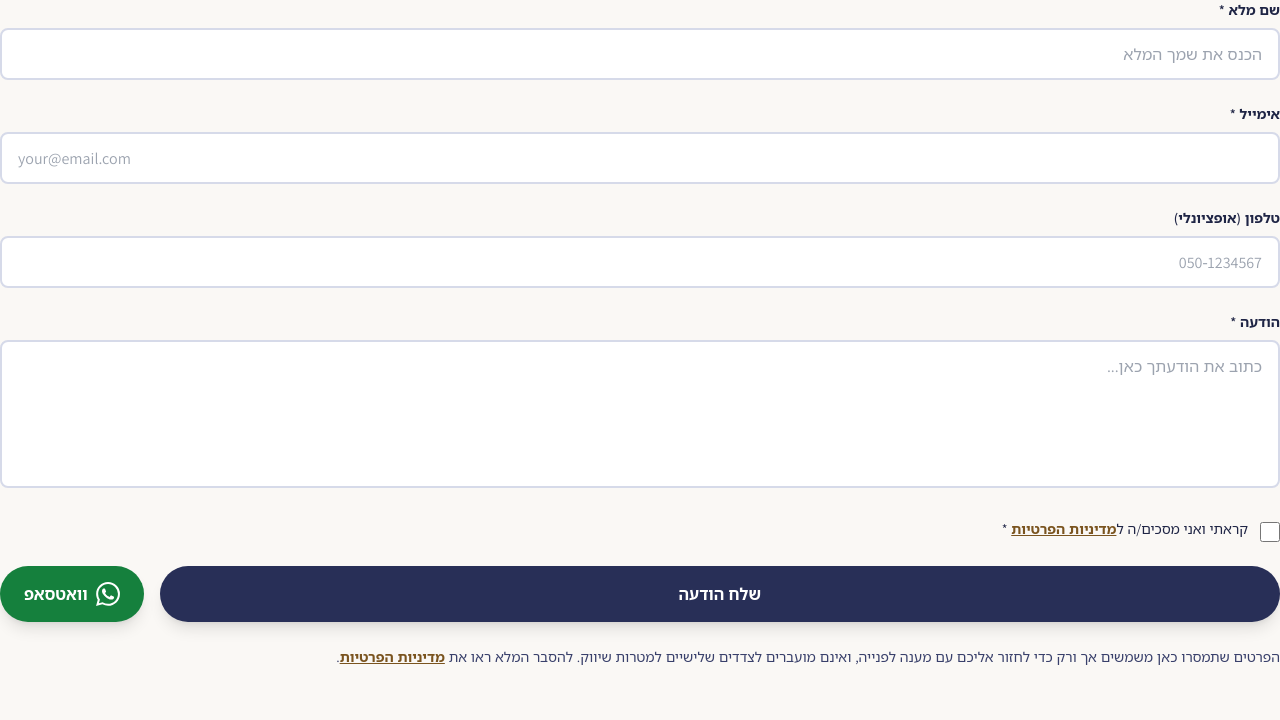
ContactForm Component › validates full name minimum length
Step 1. Type "א" into the field labelled "שם מלא *" → {"x": 640, "y": 54}, box [0,28,1279,80]
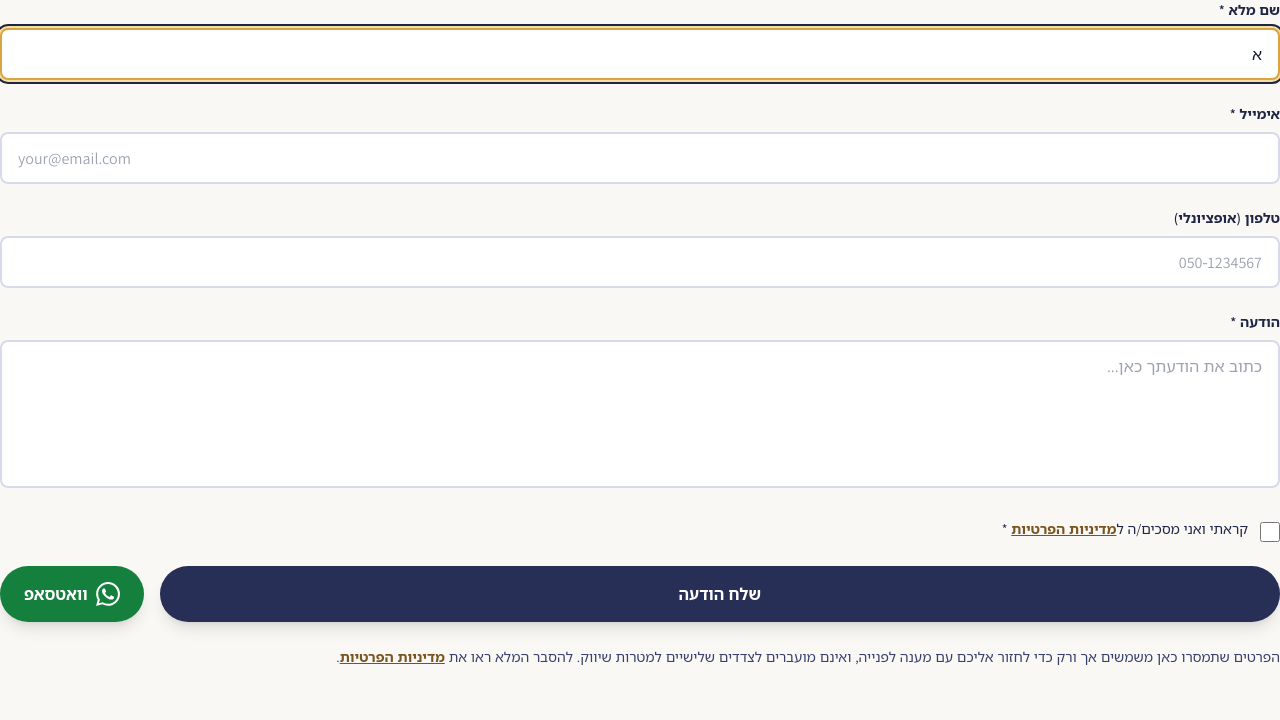
Step 2. Click the button "שלח הודעה" → {"x": 720, "y": 594}, box [160,566,1279,622]
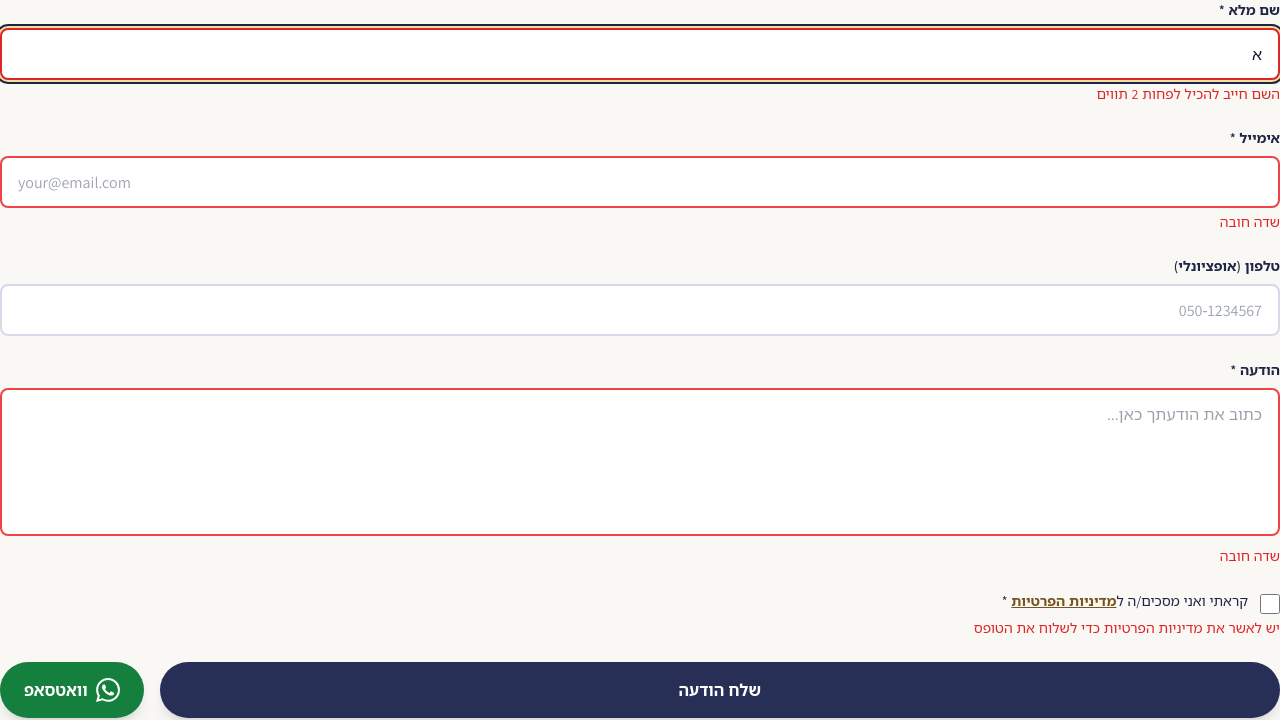
Expected: the text "השם חייב להכיל לפחות 2 תווים" is shown, [1096,84,1279,103]
